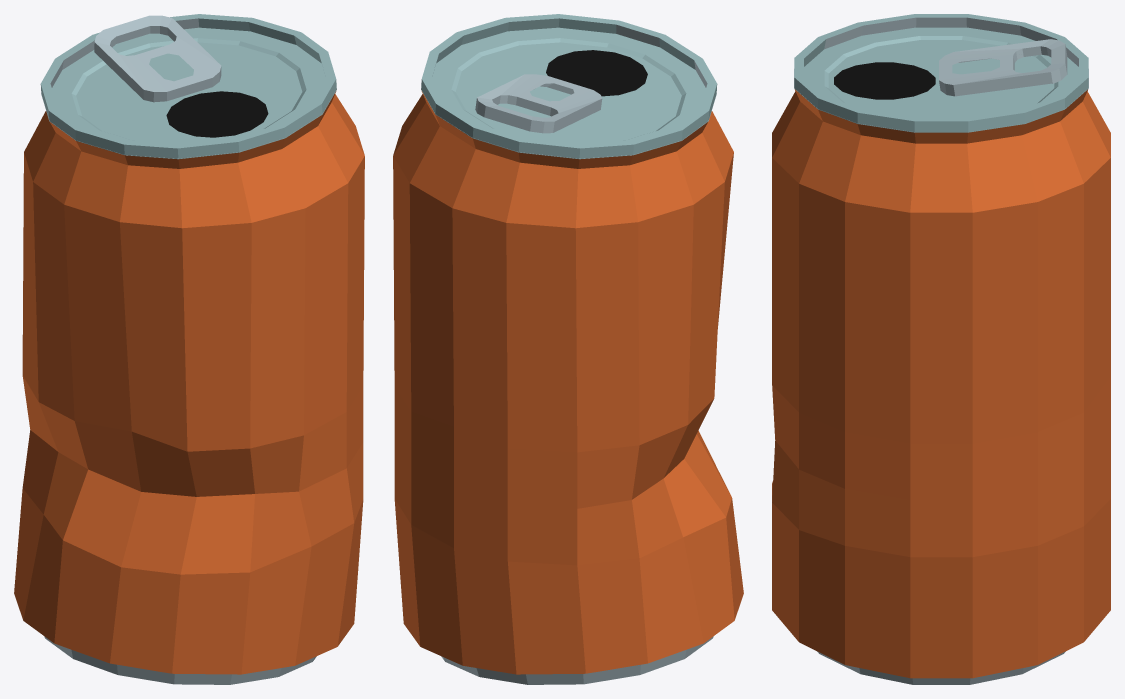
File: can_orange.fbx
The picture shows the model from 3 angles, left to right: view 1: azimuth 30°, elevation 25°; view 2: azimuth 150°, elevation 25°; view 3: azimuth 270°, elevation 25°; orthographic projection.
Visible parts, largest first — view 1: Cube.001; view 2: Cube.001; view 3: Cube.001.
Part boxes in pixels (left/top/right/bottom): Cube.001: left=14, top=14, right=364, bottom=684; Cube.001: left=393, top=14, right=743, bottom=684; Cube.001: left=772, top=14, right=1110, bottom=684.
Size of the model in its own units: 207 by 374 by 200.
